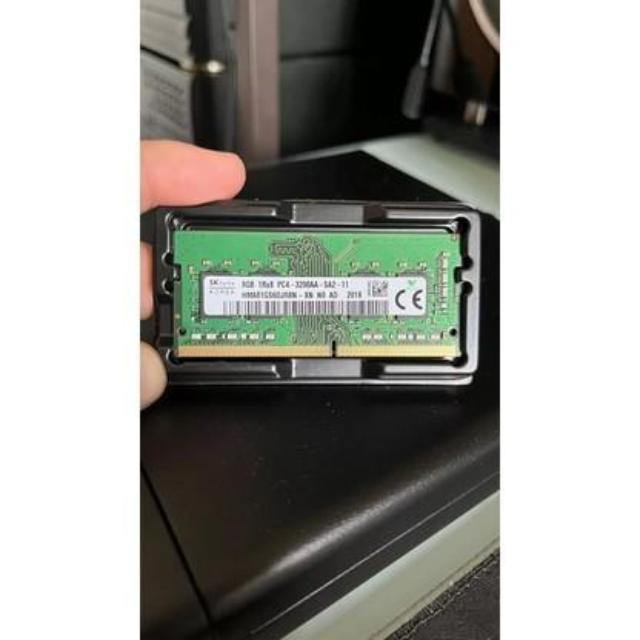RAM: (162, 217, 464, 372)
